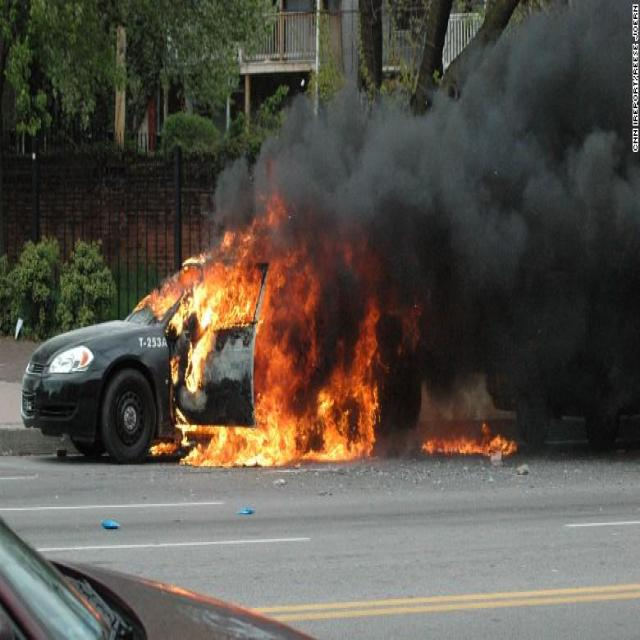fire: (171, 254, 332, 466), (334, 311, 380, 465), (418, 420, 515, 462)
